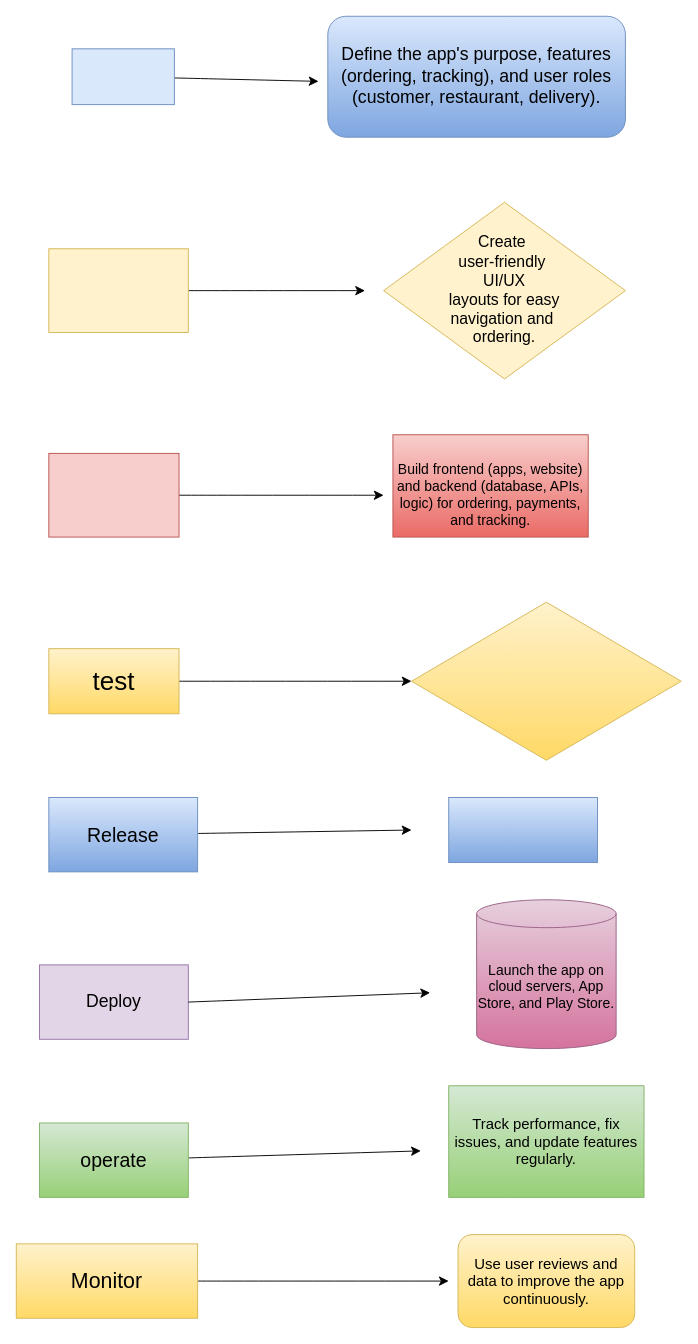
Image size: 698x1344. Some labels were removed from this diagram. Each missing label, with the centre of its shape:
"approve for the deployment" goes at [523,830].
"Build" goes at [113,494].
"Check for bugs, ensure all features work smoothly and securely." goes at [546,680].
"Develop" goes at [118,290].
"plan" goes at [122,76].
